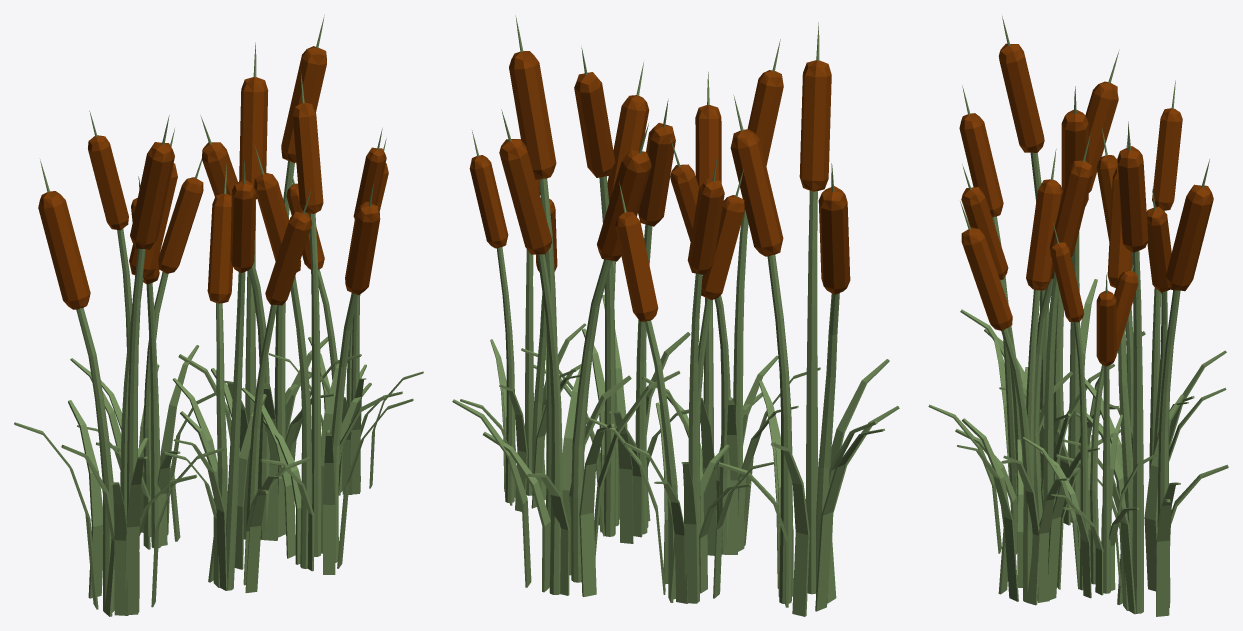
Rendered from reed_cluster_a.glb.
3 views of the same model, side by side, from view 1: azimuth 30°, elevation 25°; view 2: azimuth 150°, elevation 25°; view 3: azimuth 270°, elevation 25° (orthographic). The views are drawn at different scales.
Parts seen in each view (by area): view 1: Node.002; view 2: Node.002; view 3: Node.002.
Part boxes in pixels (x1,y1,x2,y2): Node.002: [14, 15, 423, 616]; Node.002: [452, 15, 899, 616]; Node.002: [928, 16, 1228, 616].
Size of the model in its own units: 2.09 by 2.63 by 1.4.
